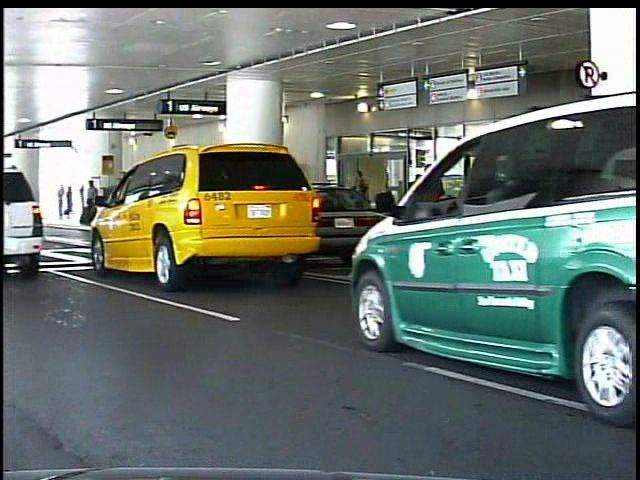person: (351, 168, 376, 236), (85, 178, 103, 229), (67, 184, 79, 224), (60, 184, 71, 224)
